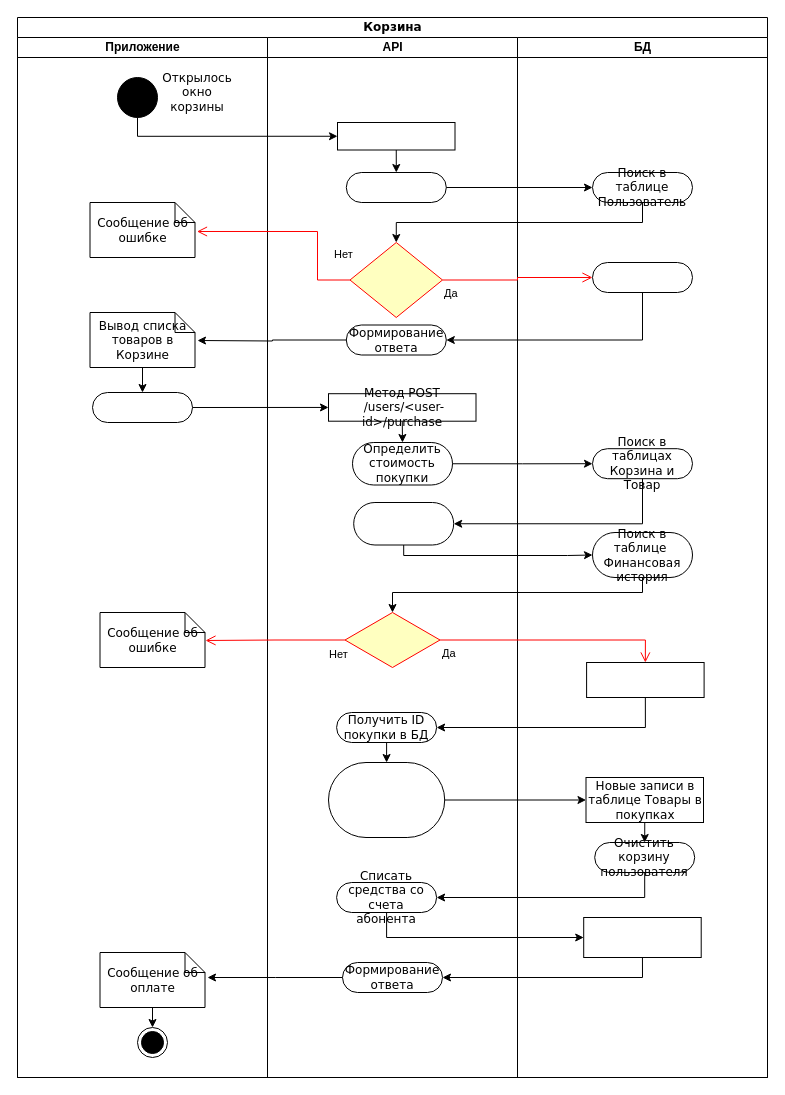
Image size: 785x1095. Some labels were removed from this diagram. The shapes that lost their labels are listed below. From the top down, each one's centre as x and y in pixels, then its label:
the point at 395,136: Метод GET /users/<user-id>/cart
the point at 395,187: Валидация токена из приложения
the point at 395,280: Пользователь и токен соответствуют?
the point at 642,277: Поиск в таблице Корзина
the point at 142,407: Пользователь нажал "Оплатить"
the point at 403,523: Определить баланс счета
the point at 392,640: Достаточно средств?
the point at 645,680: Новая запись в таблице Покупка
the point at 386,800: Скопировать содержимое Корзины в таблицу "Товары в покупках" по имеющемуся ID
the point at 642,937: Новая запись в таблице Финансовая история
